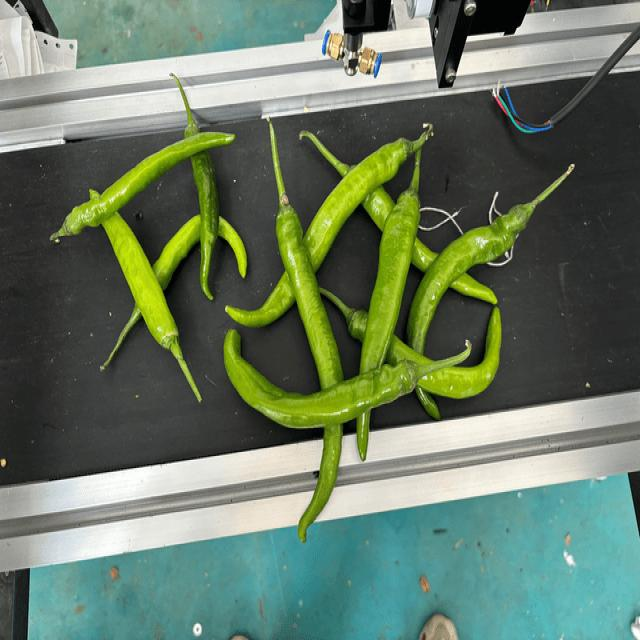chili: (223, 135, 415, 331), (407, 202, 535, 421), (274, 204, 344, 547), (344, 162, 499, 305), (222, 326, 422, 432), (62, 129, 238, 238), (355, 187, 422, 464), (87, 186, 183, 349), (347, 303, 502, 401), (133, 207, 249, 319), (183, 121, 221, 304)
